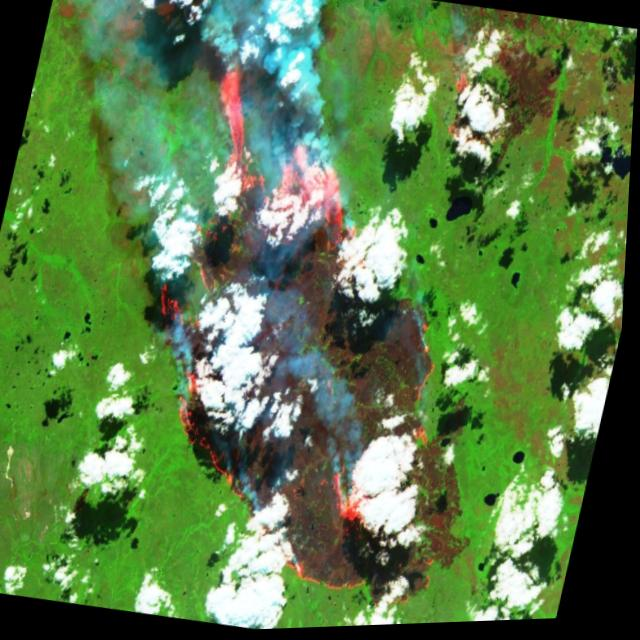fire: (98, 33, 571, 631)
